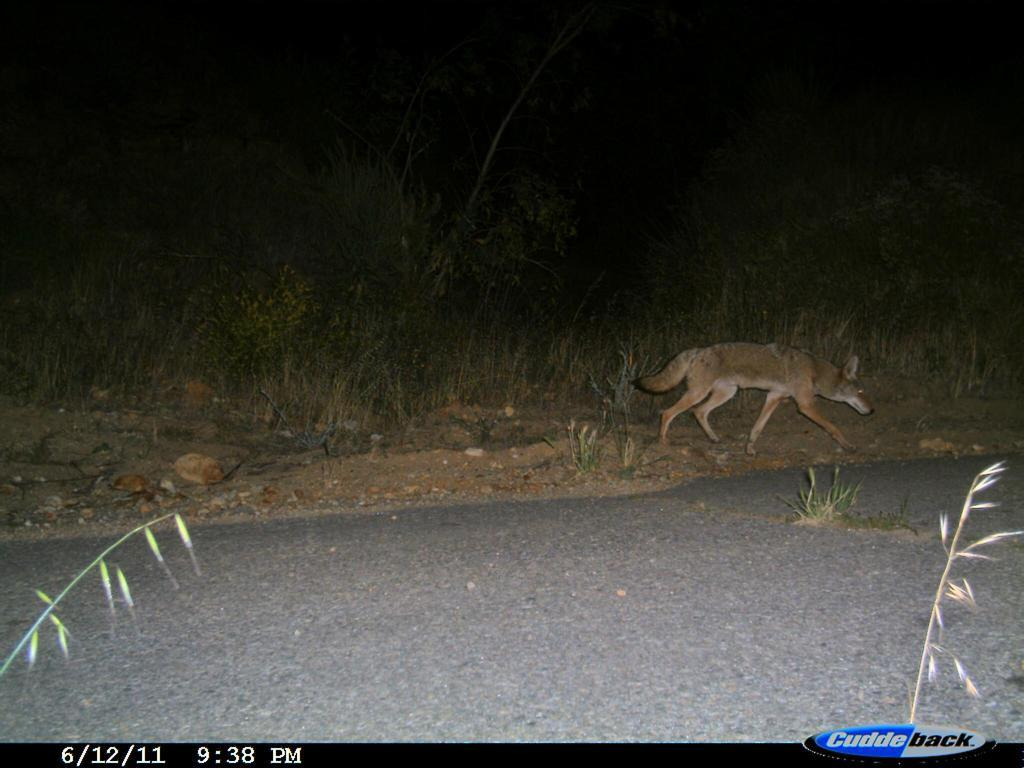coyote: (611, 328, 884, 460)
